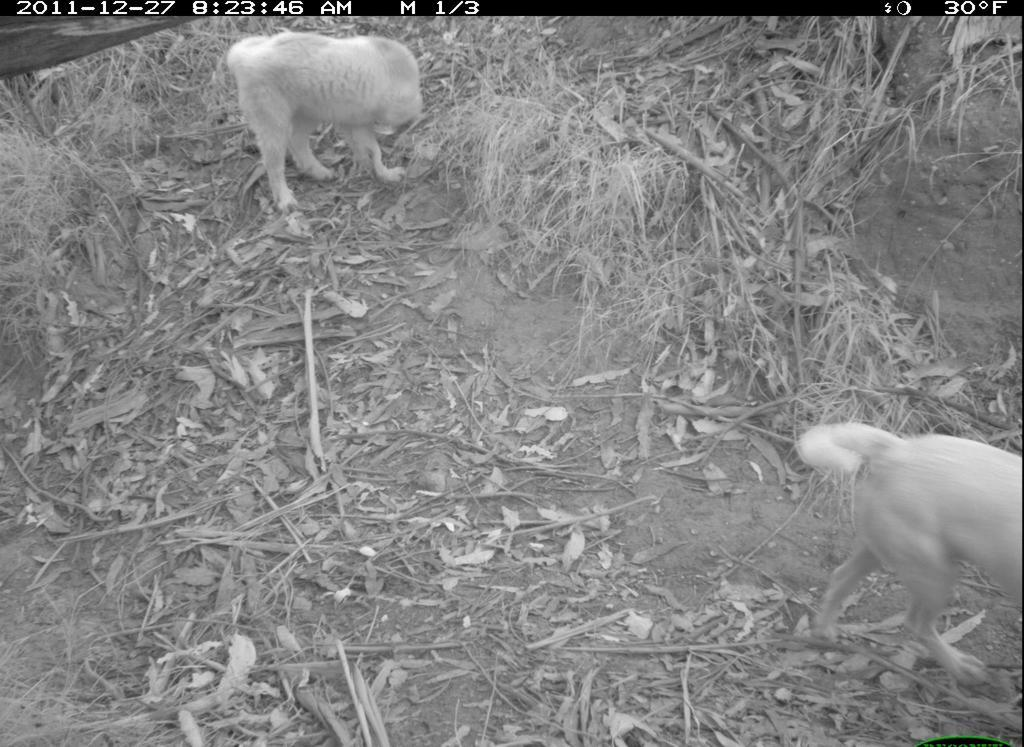dog: (789, 402, 1023, 694), (213, 29, 437, 223)
